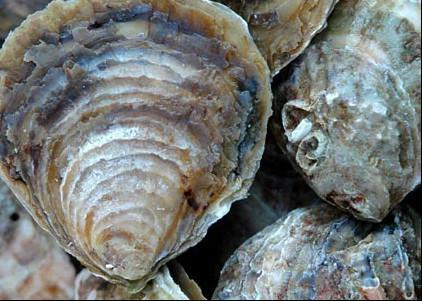3: (77, 261, 206, 301)
Oyster-Open: (0, 0, 275, 290), (267, 0, 422, 221), (212, 201, 422, 301), (207, 0, 339, 76), (0, 180, 77, 301), (250, 129, 318, 219)
